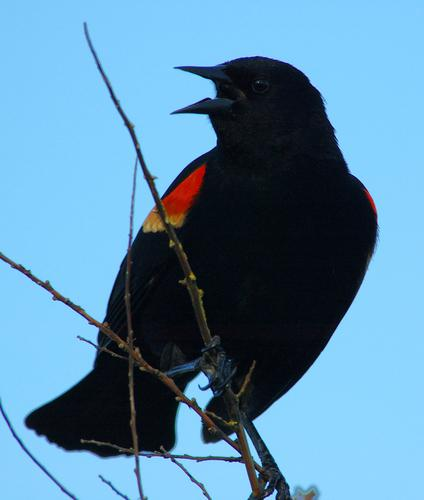010.Red_winged_Blackbird: (21, 52, 383, 462)
